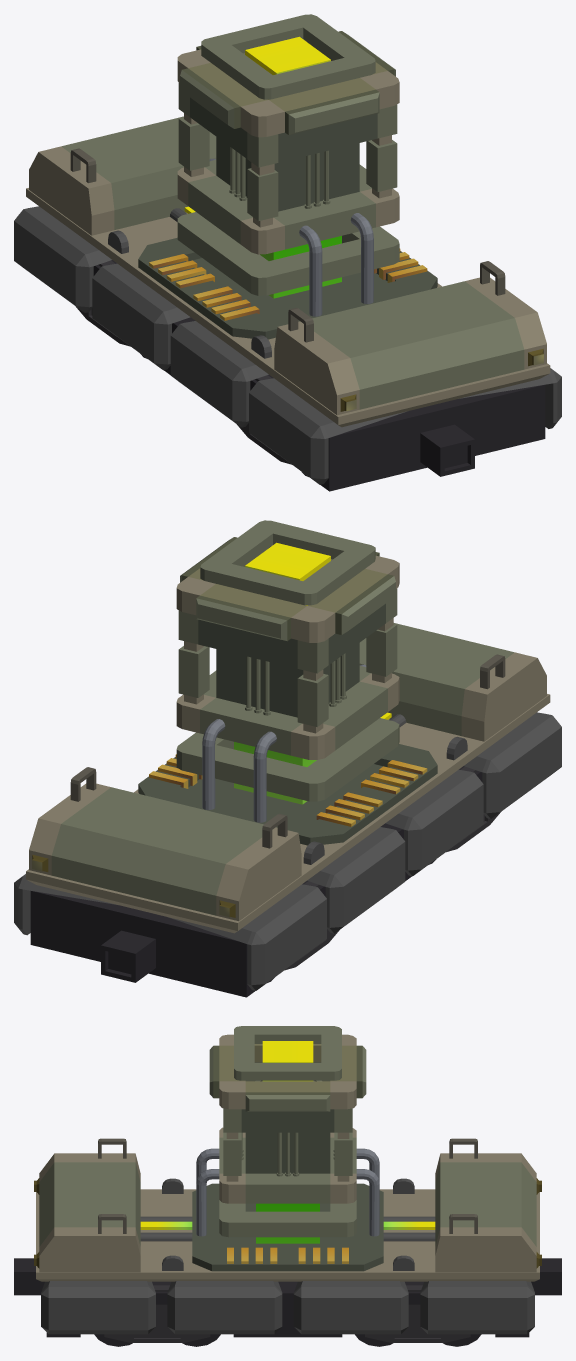
The model's file is mesh_util_1_atkpower.fbx.
The picture shows the model from 3 angles, top to bottom: view 1: azimuth 30°, elevation 25°; view 2: azimuth 150°, elevation 25°; view 3: azimuth 270°, elevation 25°; orthographic projection. The views are drawn at different scales.
Parts seen in each view (by area): view 1: util_1_pow_base, util_1_pow_comp; view 2: util_1_pow_base, util_1_pow_comp; view 3: util_1_pow_base, util_1_pow_comp.
Boxes of the visible parts, box(x1,y1,x2,y2) form: util_1_pow_base: box(14, 116, 561, 491); util_1_pow_comp: box(138, 14, 437, 339); util_1_pow_base: box(14, 623, 561, 997); util_1_pow_comp: box(138, 520, 437, 845); util_1_pow_base: box(14, 1138, 561, 1346); util_1_pow_comp: box(192, 1026, 383, 1271).
Bounding box in the file's own units: 3.59 × 4.45 × 8.39.
